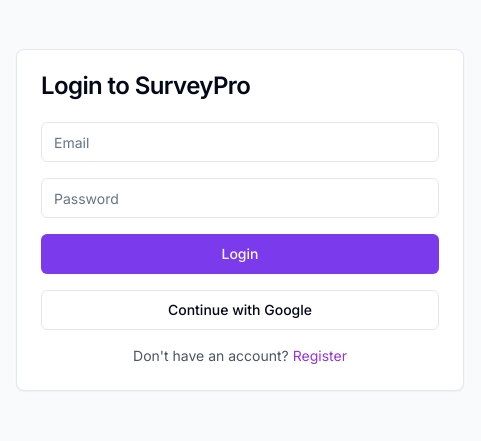
Test: LoginPage › shows error message on login failure
Type "test@example.com" into the field with placeholder "Email" at (240, 142), box left=41, top=122, right=439, bottom=162
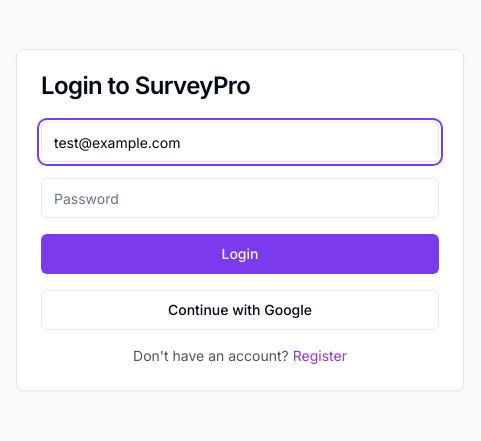
Type "wrongpassword" into the password field with placeholder "Password" at (240, 198), box left=41, top=178, right=439, bottom=218
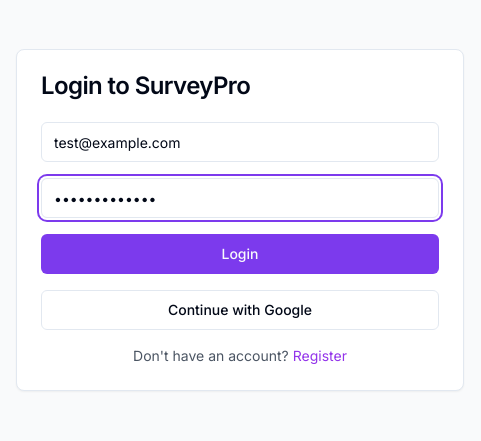
Click the button "Login" at (240, 254), box left=41, top=234, right=439, bottom=274
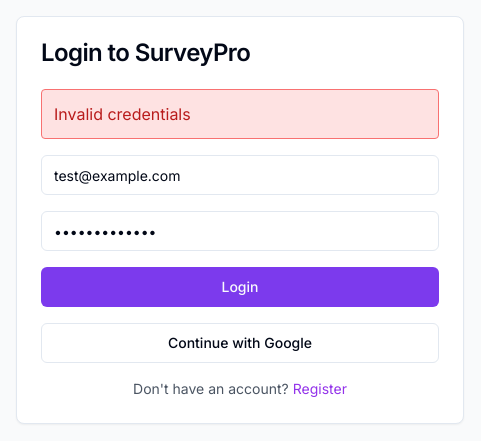
expect the text "Invalid credentials" is shown: met, box left=41, top=89, right=439, bottom=139
